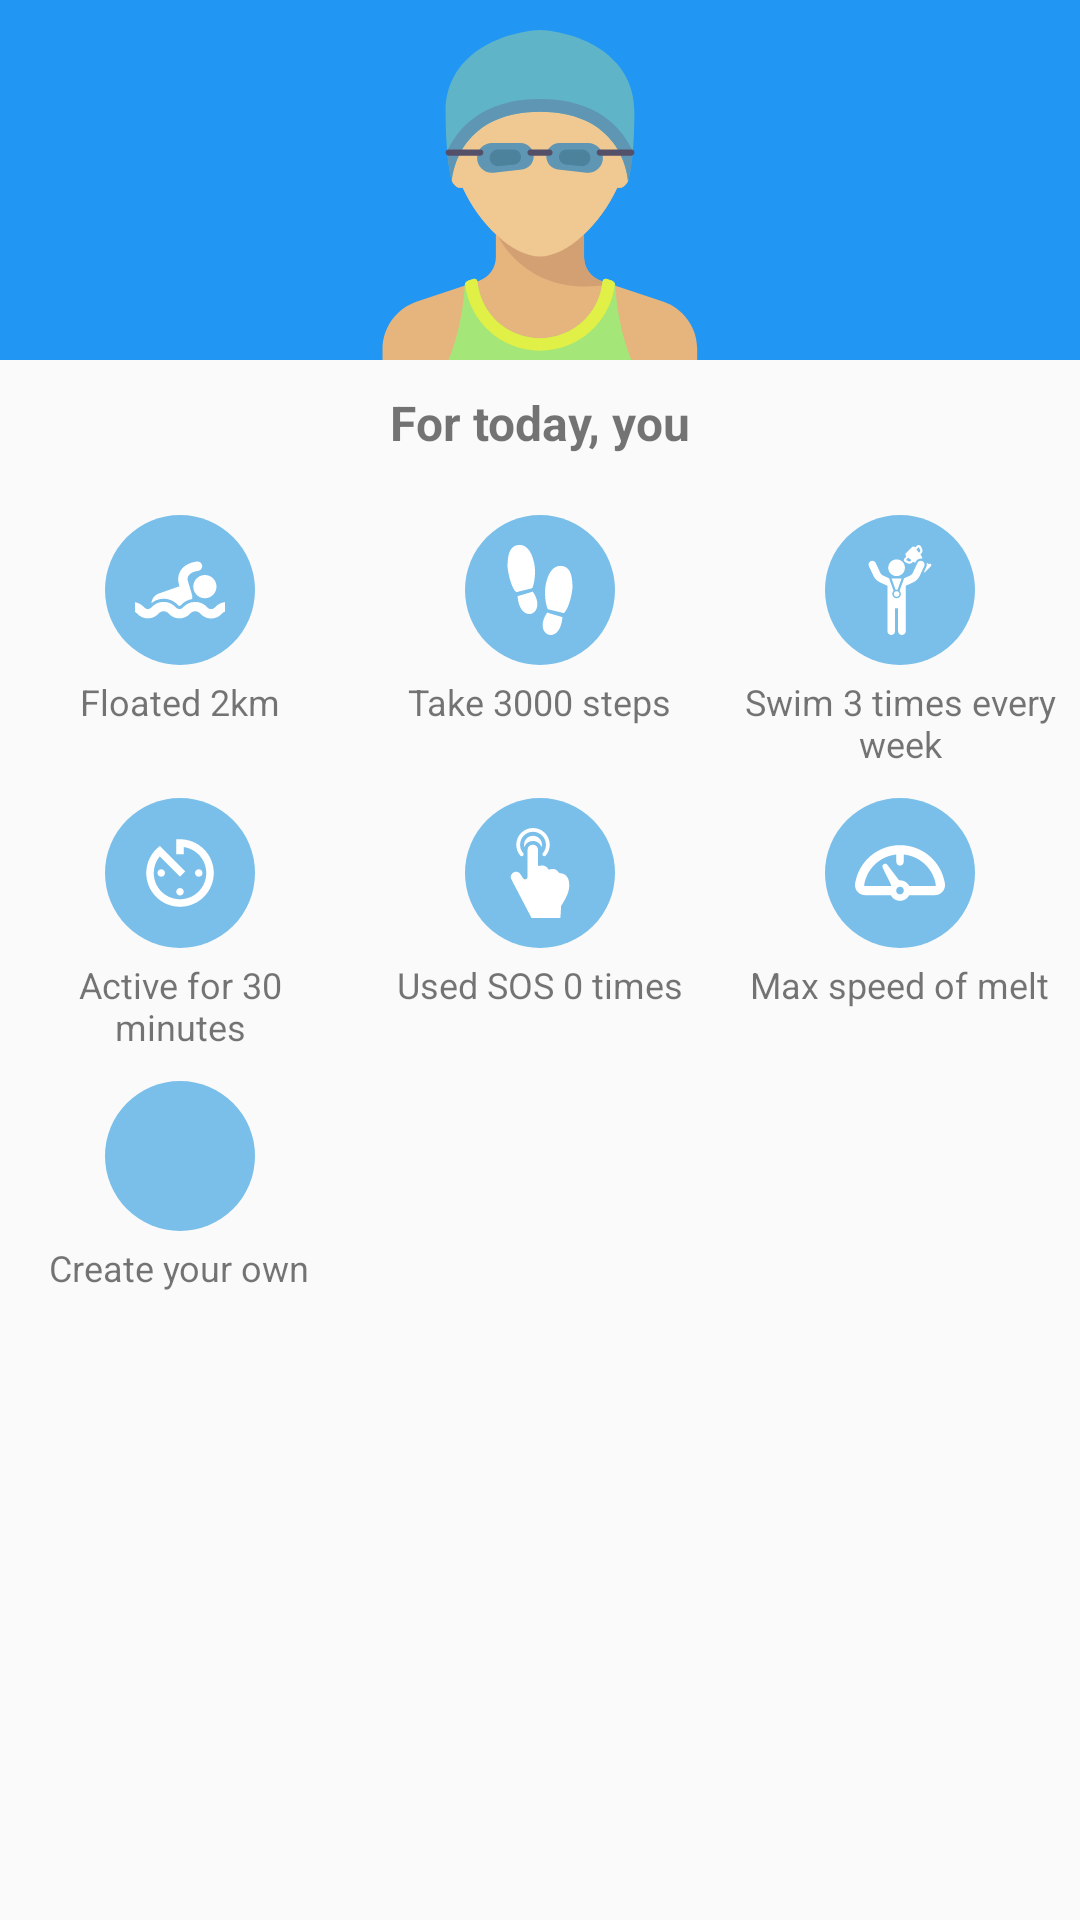

Icons on this 1080*1920 Android screen, each with the point to tap as [x,y]:
av timer: [180,873]
first prize: [900,590]
footsteps silhouette variant: [540,590]
push: [540,873]
swimming: [180,590]
